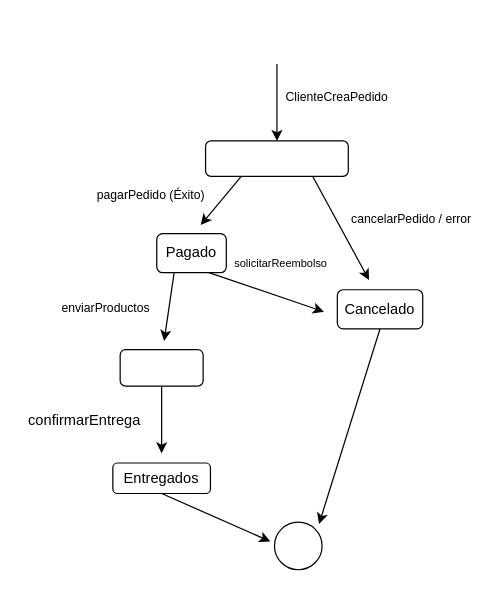
The diagram is 495 pixels wide and 590 high, and some of its shapes have lost their labels. Each missing label, with the centre of its shape:
"Enviados" belongs at pixel 161 367.
"Pendiente de pago" belongs at pixel 276 158.
